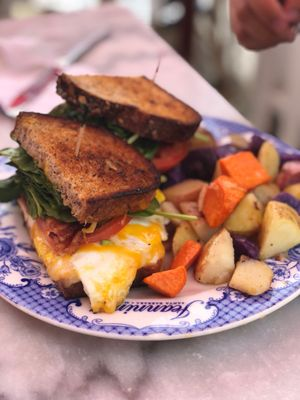soup: (1, 111, 167, 312)
